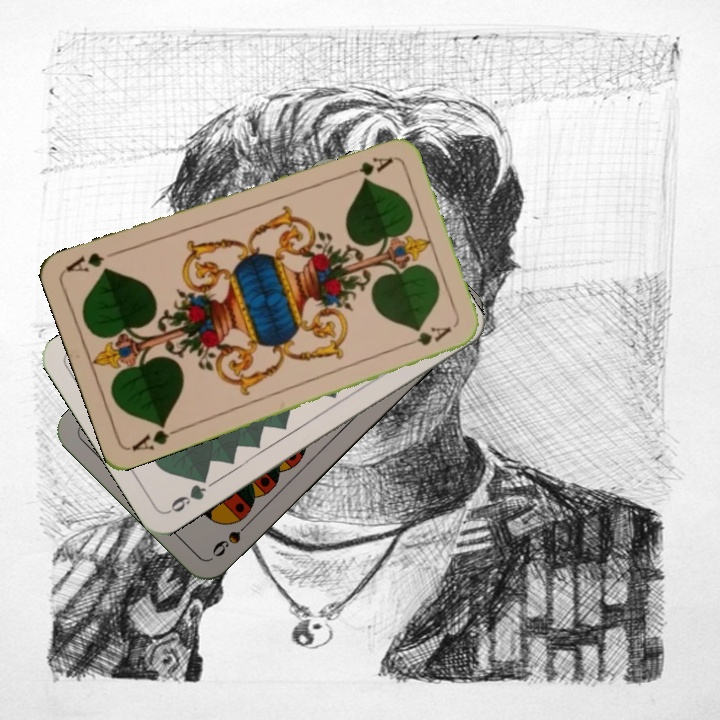G9: (164, 470, 211, 516)
GA: (128, 418, 184, 454), (338, 152, 396, 181)
S9: (208, 514, 256, 560)
